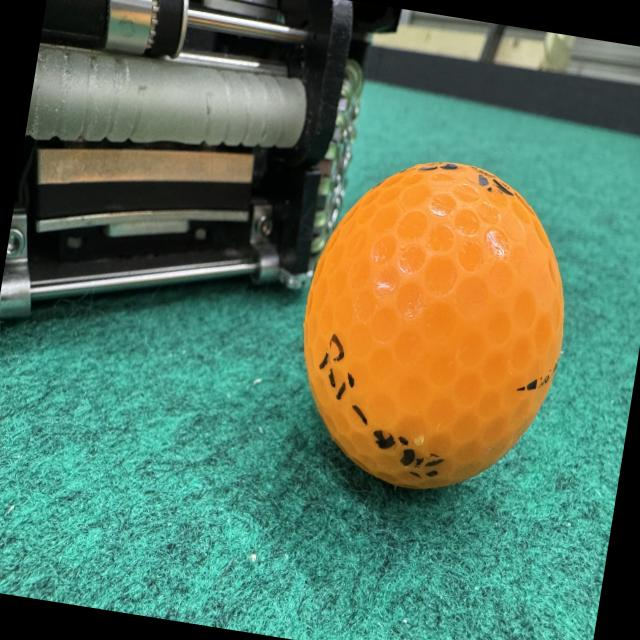ball: (278, 138, 595, 523)
